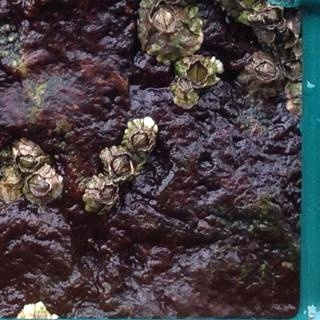Barnacle: (151, 1, 177, 31), (110, 151, 133, 178), (188, 60, 211, 85), (254, 60, 280, 82), (27, 173, 51, 195), (127, 129, 150, 150), (0, 164, 21, 184), (16, 154, 39, 171), (99, 183, 116, 201), (177, 76, 192, 92)
